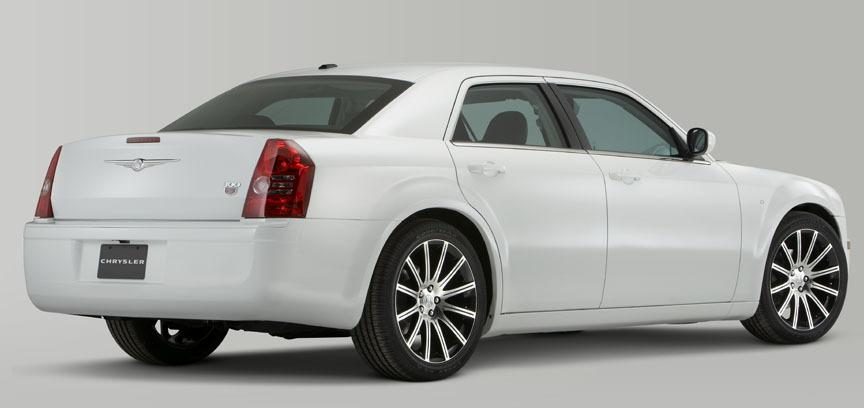Chrysler: (97, 151, 197, 176)
